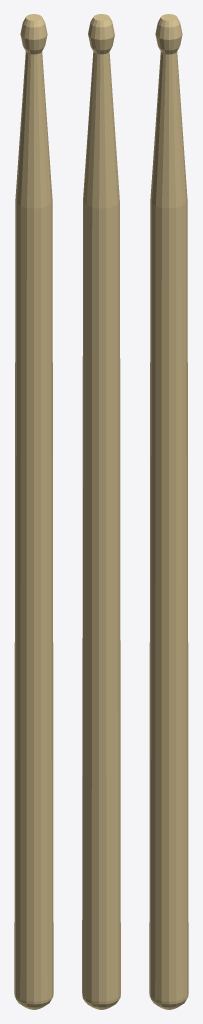
The picture shows the model from 3 angles, left to right: view 1: azimuth 90°, elevation 25°; view 2: azimuth 150°, elevation 25°; view 3: azimuth 270°, elevation 25°; orthographic projection.
Parts seen in each view (by area): view 1: Drumstick; view 2: Drumstick; view 3: Drumstick.
Part boxes in pixels (<box>): Drumstick: <box>14,14,53,1009</box>; Drumstick: <box>82,14,120,1009</box>; Drumstick: <box>149,14,188,1009</box>.
Size of the model in its own units: 0.3507 by 9.78 by 0.3507.
